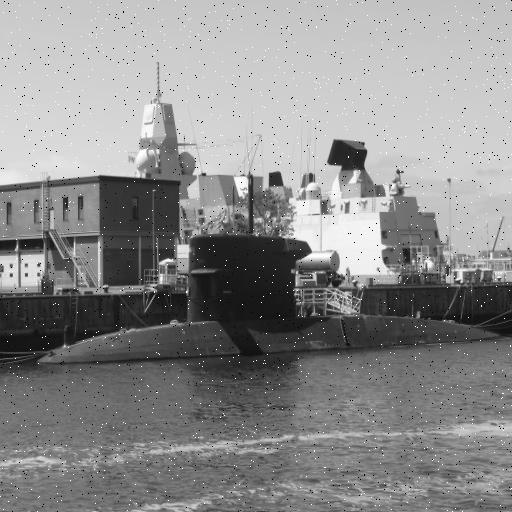submarine: (42, 177, 512, 347)
